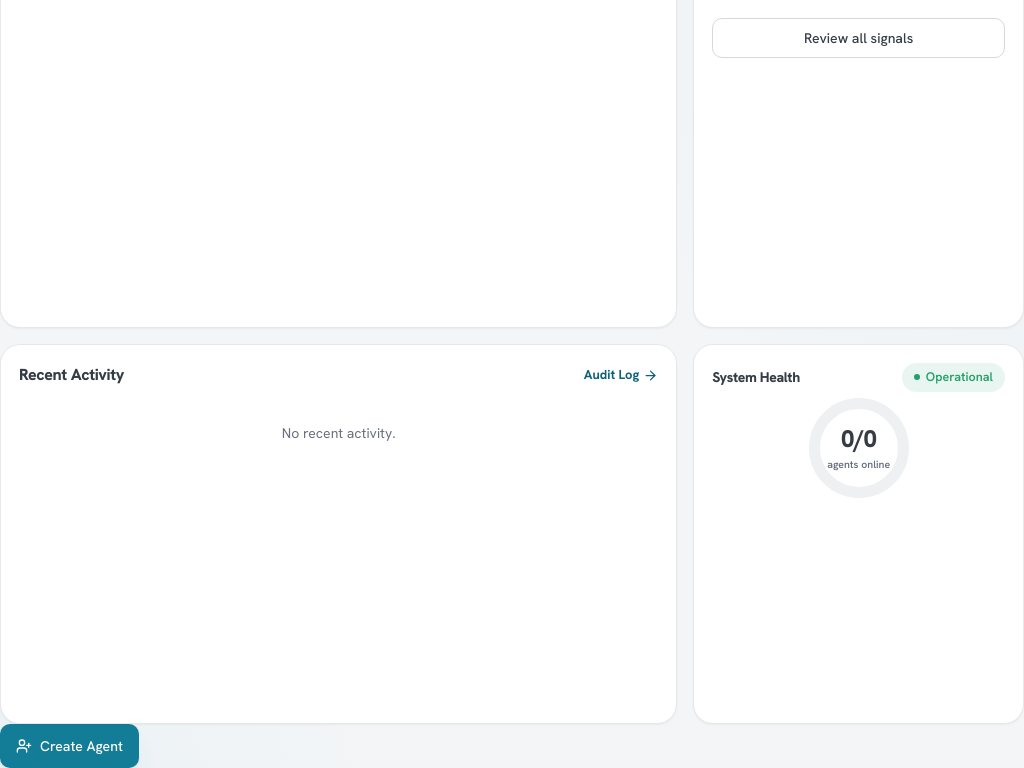
Scenario: MasterDashboard "Create Agent" field accessible names (a11y) › names the company / email / phone fields in English
(page scrolled)
Click the button "Create Agent" at point(69, 746), box [0, 724, 139, 767]
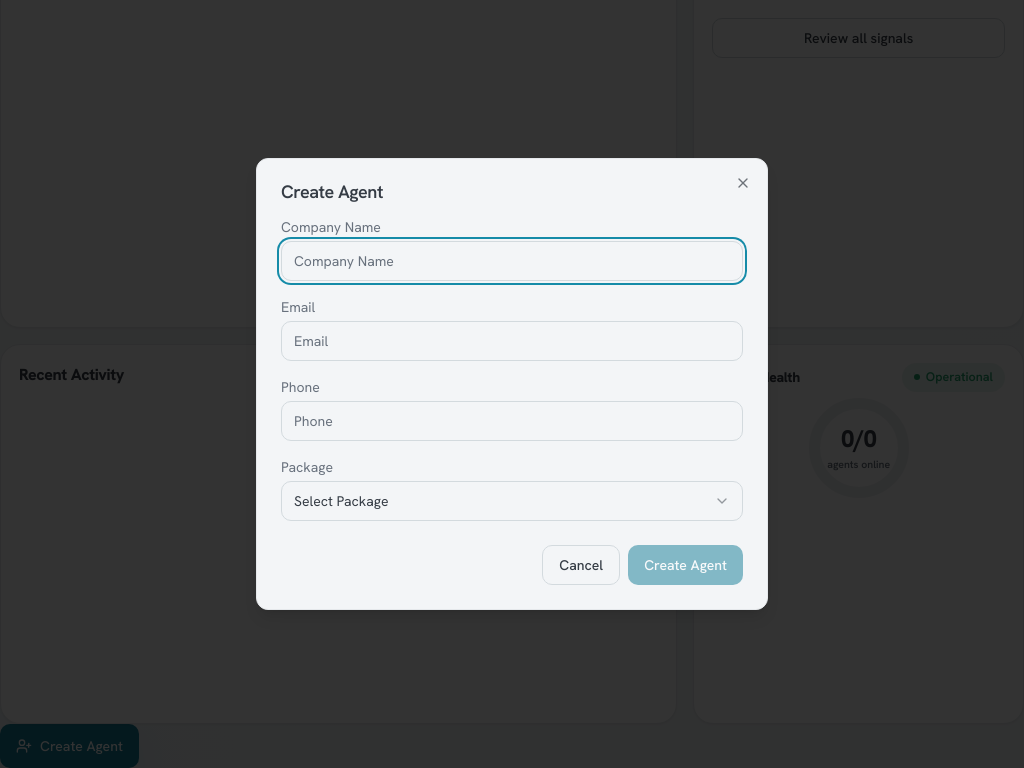
Result: the field labelled "Company Name" is shown at [281, 241, 743, 281]
Result: the field labelled "Email" is shown at [281, 321, 743, 361]
Result: the field labelled "Phone" is shown at [281, 401, 743, 441]
